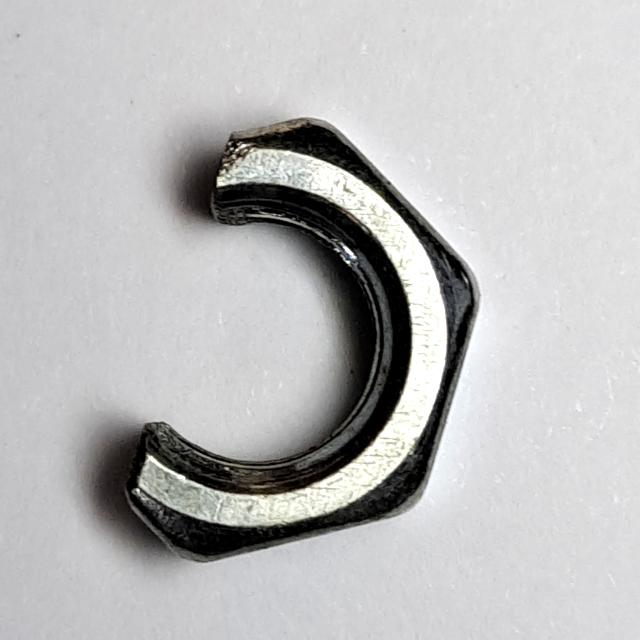Fracture: (105, 104, 493, 578)
